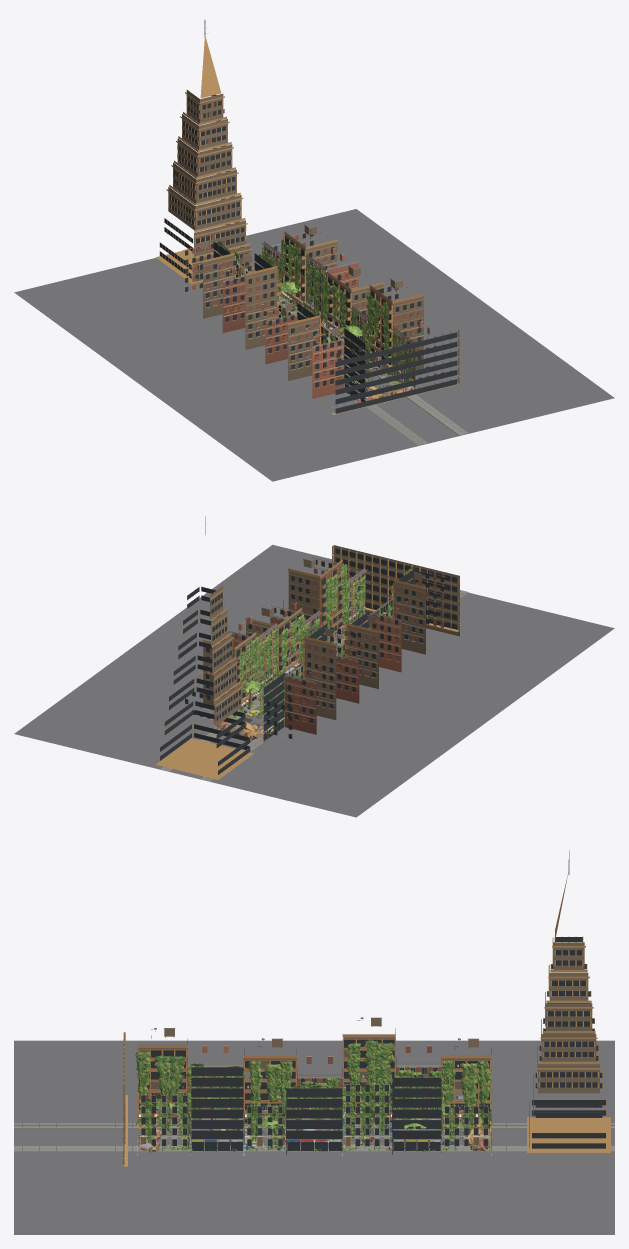
The model's file is avenue.glb.
3 views of the same model, one above another, from view 1: azimuth 30°, elevation 25°; view 2: azimuth 150°, elevation 25°; view 3: azimuth 270°, elevation 25° (orthographic). The views are drawn at different scales.
Parts seen in each view (by area): view 1: ground, landmarks, block_l_58, block_r_15, block_l_30, block_l_86, brick_l_14, block_r_72, block_l_0, block_r_42, brick_l_73, brick_l_45 (+6 smaller); view 2: ground, landmarks, block_l_58, block_l_0, block_r_15, block_l_30, block_l_86, brick_l_73, brick_l_14, block_r_42, block_r_72, vegetation_50 (+6 smaller); view 3: ground, landmarks, block_r_15, vegetation_50, block_r_72, block_r_42, vegetation_48, vegetation_51, vegetation_49, brick_r_58, block_l_0, block_l_30 (+8 smaller).
Boxes of the visible parts, left/top/right/bottom form: ground: left=14, top=209, right=614, bottom=481; landmarks: left=156, top=20, right=459, bottom=414; block_l_58: left=223, top=253, right=280, bottom=349; block_r_15: left=366, top=278, right=424, bottom=375; block_l_30: left=266, top=302, right=323, bottom=380; block_l_86: left=182, top=240, right=238, bottom=318; brick_l_14: left=289, top=324, right=349, bottom=398; block_r_72: left=281, top=224, right=337, bottom=306; block_l_0: left=313, top=327, right=368, bottom=402; block_r_42: left=323, top=266, right=383, bottom=340; brick_l_73: left=204, top=262, right=249, bottom=332; brick_l_45: left=246, top=302, right=297, bottom=364; ground: left=14, top=544, right=614, bottom=817; landmarks: left=156, top=516, right=459, bottom=779; block_l_58: left=301, top=623, right=358, bottom=720; block_l_0: left=390, top=568, right=446, bottom=654; block_r_15: left=288, top=556, right=346, bottom=642; block_l_30: left=343, top=610, right=400, bottom=688; block_l_86: left=260, top=666, right=315, bottom=741; brick_l_73: left=282, top=663, right=335, bottom=734; brick_l_14: left=369, top=597, right=425, bottom=672; block_r_42: left=245, top=600, right=305, bottom=674; block_r_72: left=202, top=629, right=259, bottom=711; vegetation_50: left=254, top=621, right=337, bottom=701; ground: left=14, top=1040, right=614, bottom=1234; landmarks: left=123, top=851, right=610, bottom=1166; block_r_15: left=191, top=1067, right=243, bottom=1155; vegetation_50: left=314, top=1040, right=399, bottom=1151; block_r_72: left=392, top=1077, right=441, bottom=1155; block_r_42: left=286, top=1088, right=342, bottom=1155; vegetation_48: left=144, top=1051, right=230, bottom=1151; vegetation_51: left=398, top=1060, right=484, bottom=1151; vegetation_49: left=229, top=1060, right=314, bottom=1151; brick_r_58: left=342, top=1083, right=392, bottom=1155; block_l_0: left=137, top=1028, right=187, bottom=1123; block_l_30: left=243, top=1038, right=296, bottom=1123.
Size of what is drawn, in the model's own units: 130 by 92.17 by 170.
